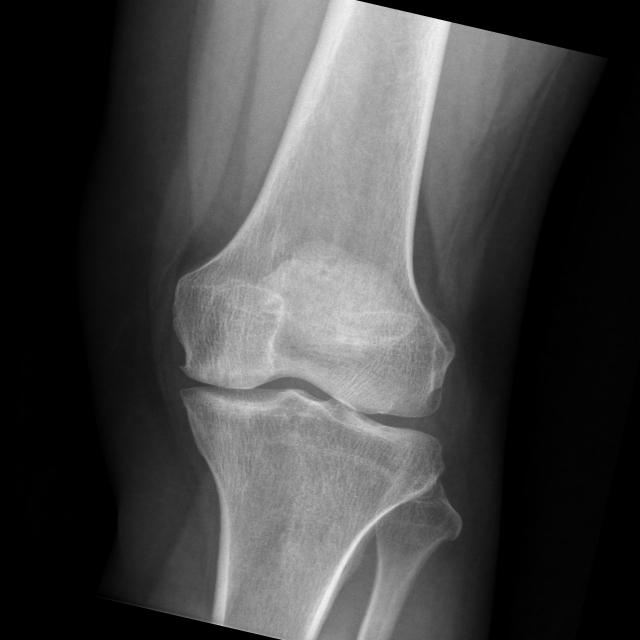Knee: (135, 261, 478, 524)
